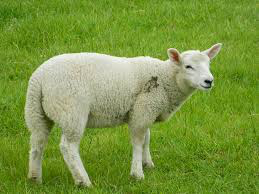koyun: (25, 42, 221, 188)
